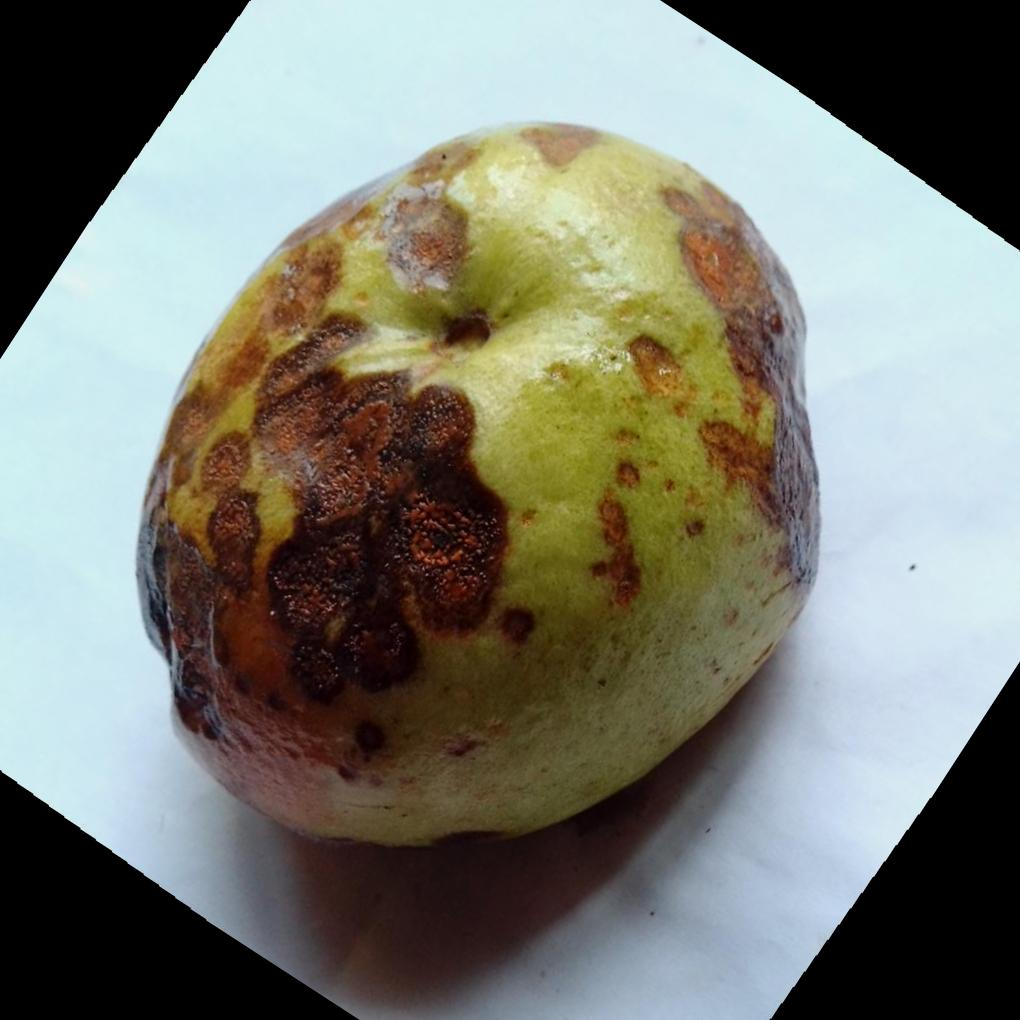FreshOrange: (136, 120, 824, 851)
